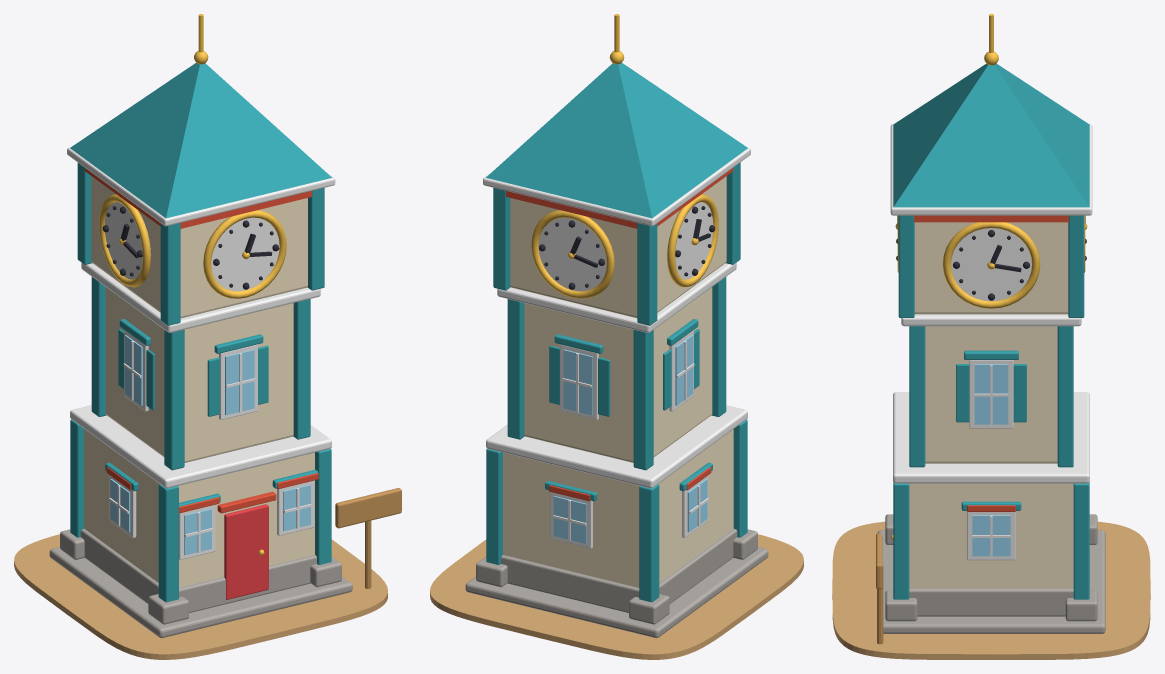
Rendered from clock-tower-stage-4.e85981e0.glb.
3 views of the same model, side by side, from view 1: azimuth 30°, elevation 25°; view 2: azimuth 150°, elevation 25°; view 3: azimuth 270°, elevation 25° (orthographic). The views are drawn at different scales.
Visible parts, largest first — view 1: ClockTower_Stage4__T_teal, ClockTower_Stage4__T_cream, ClockTower_Stage4__T_white, ClockTower_Stage4__T_dirt, ClockTower_Stage4__T_stone, ClockTower_Stage4__T_glass, ClockTower_Stage4__T_gold, ClockTower_Stage4__T_red, ClockTower_Stage4__T_beam, ClockTower_Stage4__T_wood, ClockTower_Stage4__T_dark; view 2: ClockTower_Stage4__T_teal, ClockTower_Stage4__T_cream, ClockTower_Stage4__T_white, ClockTower_Stage4__T_dirt, ClockTower_Stage4__T_stone, ClockTower_Stage4__T_glass, ClockTower_Stage4__T_gold, ClockTower_Stage4__T_beam, ClockTower_Stage4__T_dark; view 3: ClockTower_Stage4__T_teal, ClockTower_Stage4__T_cream, ClockTower_Stage4__T_white, ClockTower_Stage4__T_dirt, ClockTower_Stage4__T_stone, ClockTower_Stage4__T_glass, ClockTower_Stage4__T_gold, ClockTower_Stage4__T_beam, ClockTower_Stage4__T_wood, ClockTower_Stage4__T_dark.
Boxes of the visible parts, left/top/right/bottom form: ClockTower_Stage4__T_teal: left=70, top=63, right=331, bottom=602; ClockTower_Stage4__T_cream: left=84, top=176, right=314, bottom=587; ClockTower_Stage4__T_white: left=67, top=147, right=335, bottom=559; ClockTower_Stage4__T_dirt: left=14, top=534, right=387, bottom=659; ClockTower_Stage4__T_stone: left=49, top=528, right=352, bottom=638; ClockTower_Stage4__T_glass: left=110, top=335, right=310, bottom=555; ClockTower_Stage4__T_gold: left=99, top=14, right=286, bottom=555; ClockTower_Stage4__T_red: left=224, top=504, right=268, bottom=599; ClockTower_Stage4__T_beam: left=85, top=168, right=318, bottom=513; ClockTower_Stage4__T_wood: left=335, top=488, right=401, bottom=588; ClockTower_Stage4__T_dark: left=102, top=206, right=279, bottom=289; ClockTower_Stage4__T_teal: left=486, top=63, right=747, bottom=602; ClockTower_Stage4__T_cream: left=503, top=176, right=733, bottom=587; ClockTower_Stage4__T_white: left=483, top=147, right=750, bottom=548; ClockTower_Stage4__T_dirt: left=430, top=534, right=803, bottom=659; ClockTower_Stage4__T_stone: left=465, top=529, right=768, bottom=638; ClockTower_Stage4__T_glass: left=553, top=335, right=707, bottom=543; ClockTower_Stage4__T_gold: left=531, top=14, right=718, bottom=298; ClockTower_Stage4__T_beam: left=506, top=168, right=733, bottom=501; ClockTower_Stage4__T_dark: left=539, top=206, right=715, bottom=289; ClockTower_Stage4__T_teal: left=893, top=63, right=1089, bottom=599; ClockTower_Stage4__T_cream: left=909, top=222, right=1073, bottom=588; ClockTower_Stage4__T_white: left=890, top=124, right=1092, bottom=560; ClockTower_Stage4__T_dirt: left=832, top=521, right=1150, bottom=659; ClockTower_Stage4__T_stone: left=877, top=514, right=1105, bottom=633; ClockTower_Stage4__T_glass: left=972, top=364, right=1010, bottom=556; ClockTower_Stage4__T_gold: left=890, top=14, right=1087, bottom=540; ClockTower_Stage4__T_beam: left=914, top=215, right=1068, bottom=511; ClockTower_Stage4__T_wood: left=876, top=533, right=883, bottom=644; ClockTower_Stage4__T_dark: left=896, top=216, right=1086, bottom=300.
Bounding box in the file's own units: 4.98 × 9.62 × 4.8.
